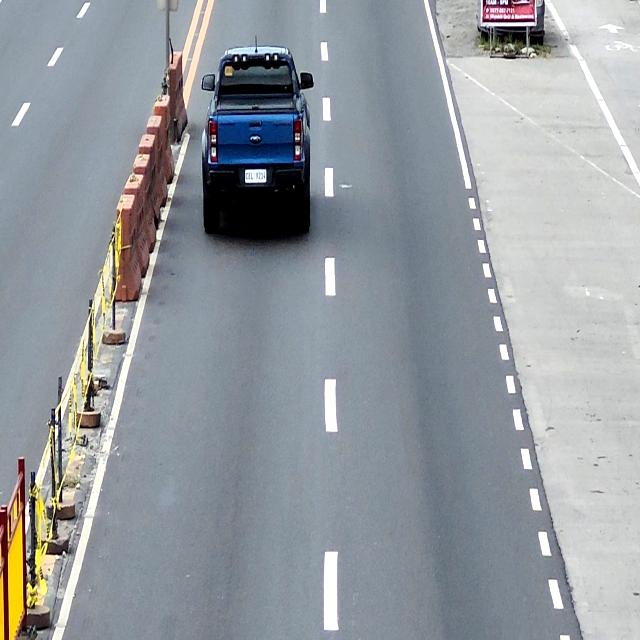Car: (201, 46, 314, 235)
License-Plate: (245, 168, 268, 184)
